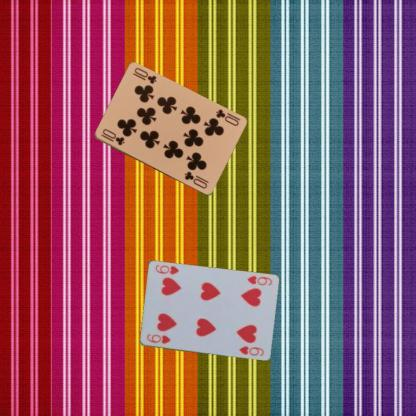10c: (98, 126, 126, 147), (213, 106, 240, 127)
6h: (244, 273, 273, 287), (144, 332, 171, 345)
